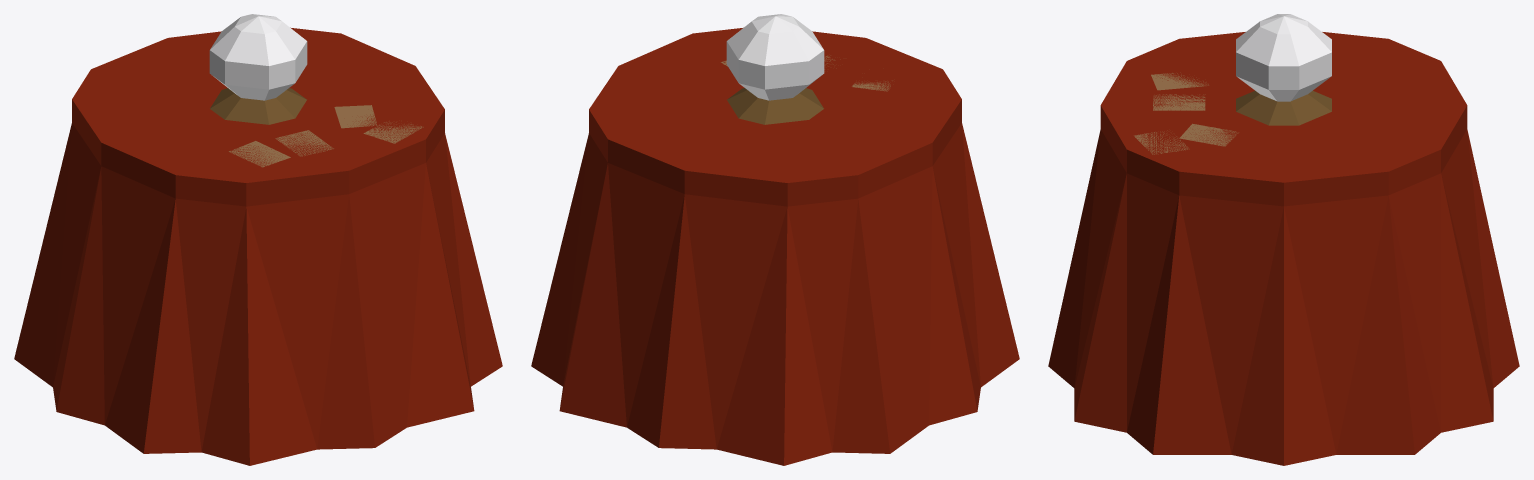
Rendered from obj_crystal_ball_0.obj.
The picture shows the model from 3 angles, left to right: view 1: azimuth 30°, elevation 25°; view 2: azimuth 150°, elevation 25°; view 3: azimuth 270°, elevation 25°; orthographic projection.
Bounding box in the file's own units: 1.69 × 1.38 × 1.69.
